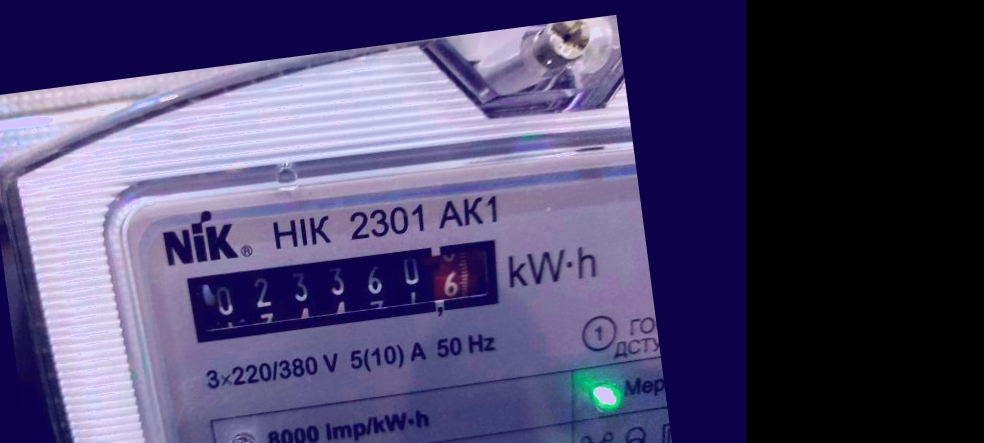0: (210, 282, 236, 317), (399, 253, 420, 286)
2: (248, 273, 275, 310)
3: (285, 269, 310, 303), (324, 263, 347, 296)
6: (360, 261, 384, 295), (436, 266, 461, 298)
screen: (165, 219, 517, 360)
